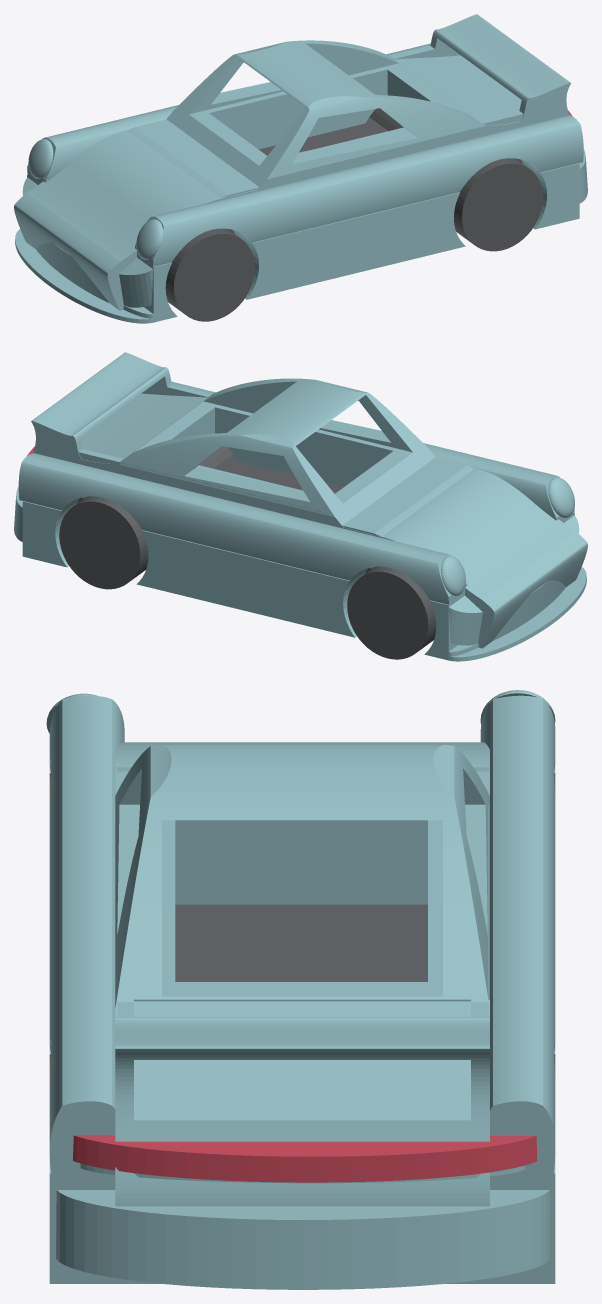
The model's file is Copy of day 2 by chris.glb.
3 views of the same model, one above another, from view 1: azimuth 30°, elevation 25°; view 2: azimuth 150°, elevation 25°; view 3: azimuth 270°, elevation 25° (orthographic). The views are drawn at different scales.
Parts seen in each view (by area): view 1: Mesh_Mesh_head_geo.001_lambert2SG.001; view 2: Mesh_Mesh_head_geo.001_lambert2SG.001; view 3: Mesh_Mesh_head_geo.001_lambert2SG.001.
Boxes of the visible parts, bbox=[...] form: Mesh_Mesh_head_geo.001_lambert2SG.001: bbox=[14, 14, 587, 323]; Mesh_Mesh_head_geo.001_lambert2SG.001: bbox=[14, 352, 587, 661]; Mesh_Mesh_head_geo.001_lambert2SG.001: bbox=[46, 690, 555, 1289].
Bounding box in the file's own units: 0.1244 × 0.039 × 0.0543.
